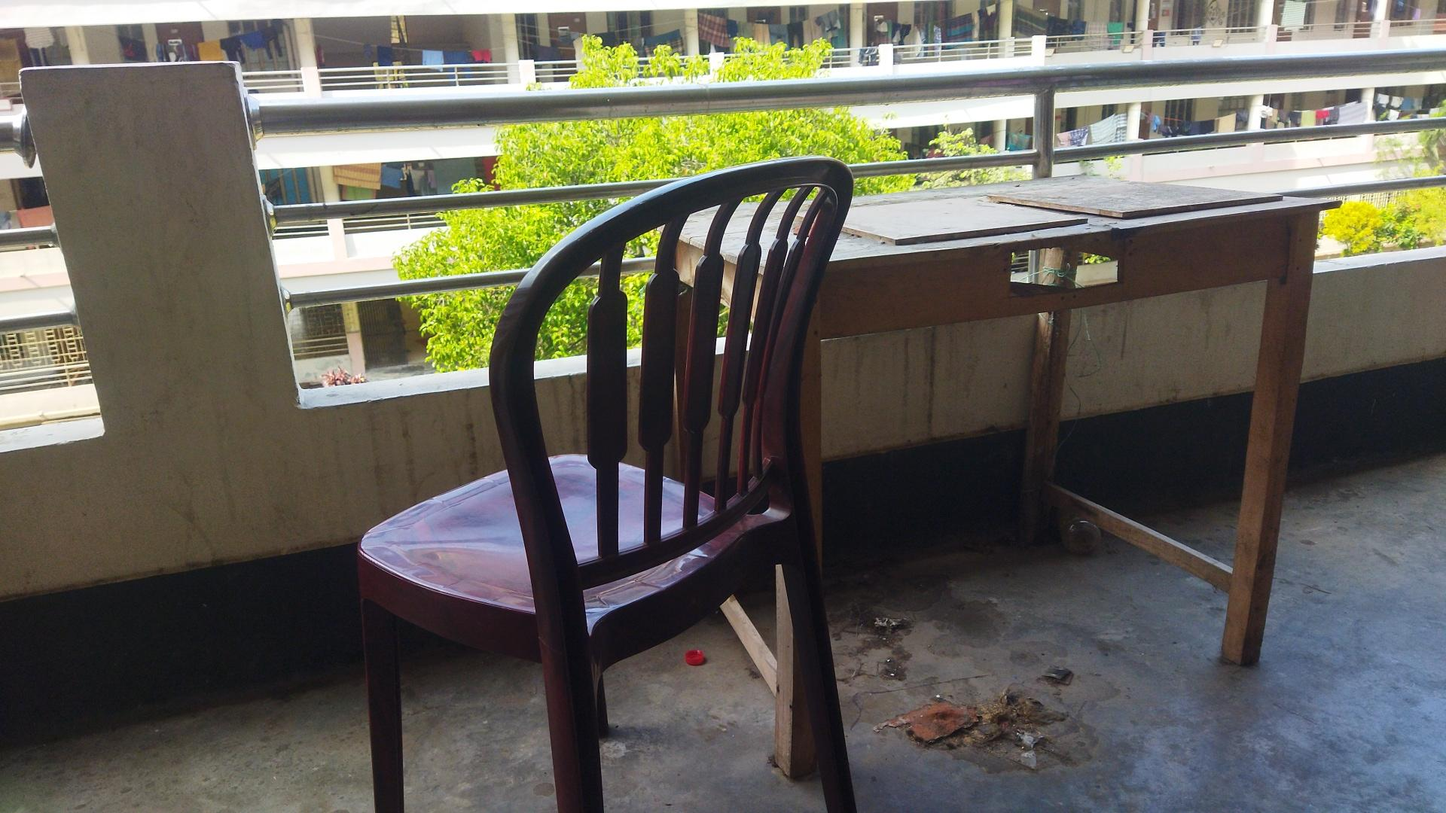Chair: (353, 153, 861, 813)
Table: (673, 122, 1321, 755)
